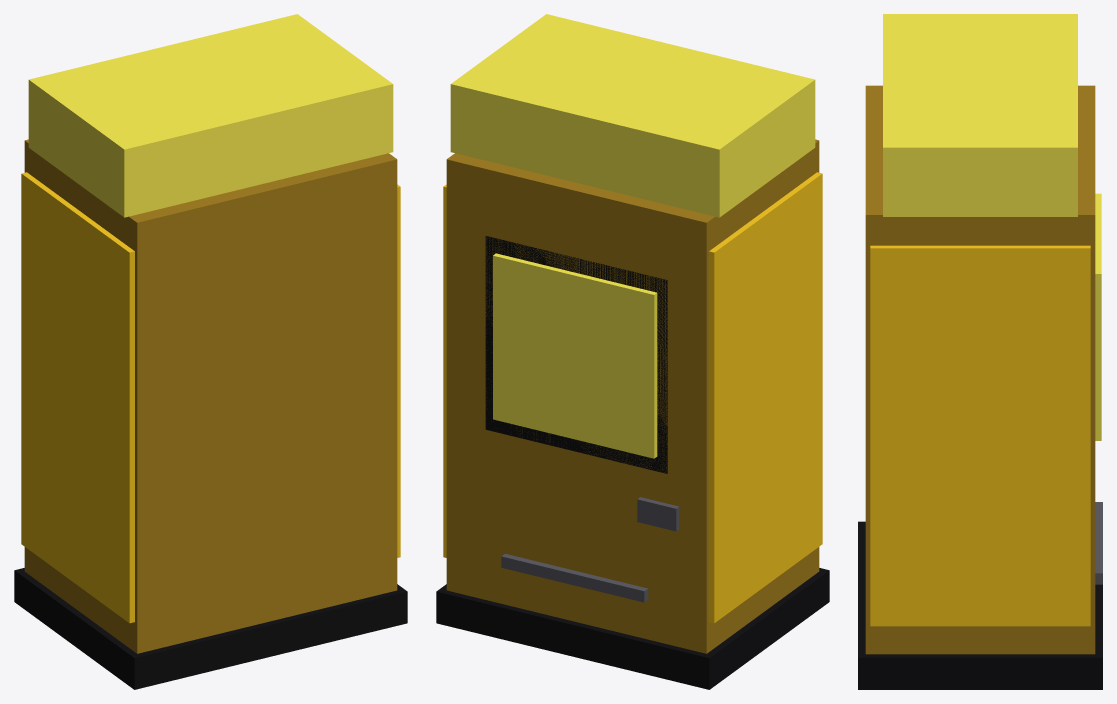
Rendered from perk_double_tap.obj.
The picture shows the model from 3 angles, left to right: view 1: azimuth 30°, elevation 25°; view 2: azimuth 150°, elevation 25°; view 3: azimuth 270°, elevation 25°; orthographic projection.
Visible parts, largest first — view 1: perk_machine; view 2: perk_machine; view 3: perk_machine.
Part boxes in pixels (x1,y1,x2,y2): perk_machine: [14, 14, 407, 689]; perk_machine: [436, 14, 829, 689]; perk_machine: [858, 14, 1102, 689].
Size of the model in its own units: 1.26 by 2.34 by 0.96.
